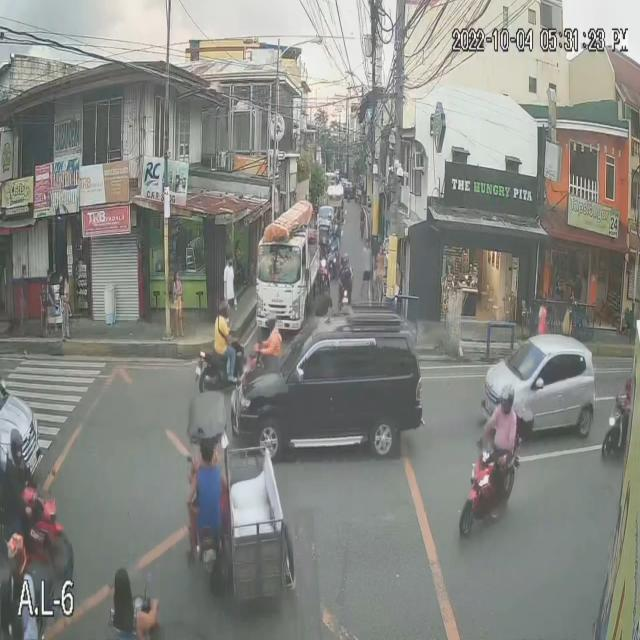Full-Faced: (9, 424, 27, 468), (496, 382, 515, 410), (216, 297, 229, 319), (338, 252, 352, 270), (330, 223, 341, 244)
Half-Faced: (262, 310, 278, 330)
